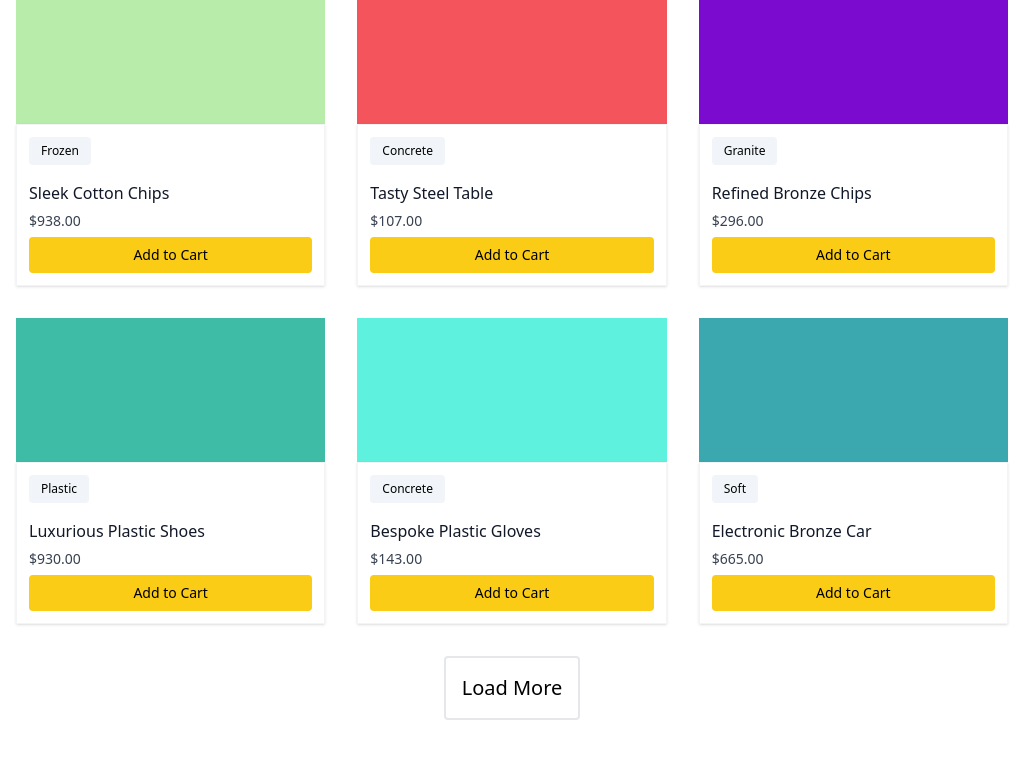
Test case: App component › should display 12 products after button is clicked
This screenshot has width=1024, height=768.
(page scrolled)
Click the button "Load More" at (512, 688), box [444,656,580,720]
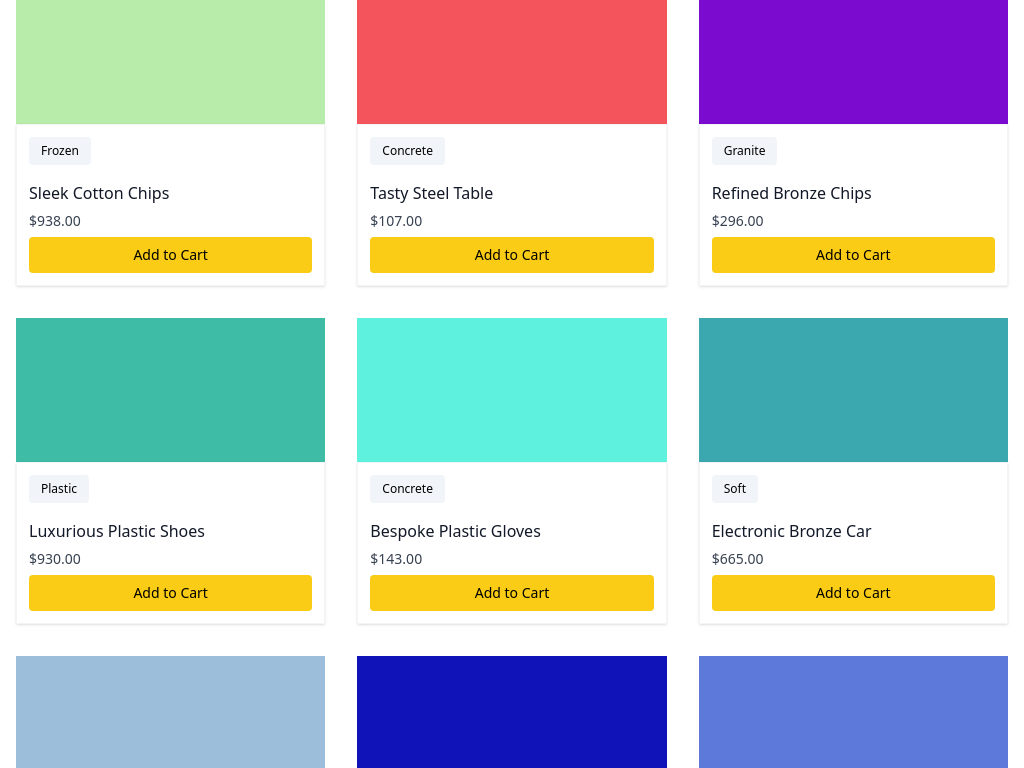
Expected: the number of pictures is 12
